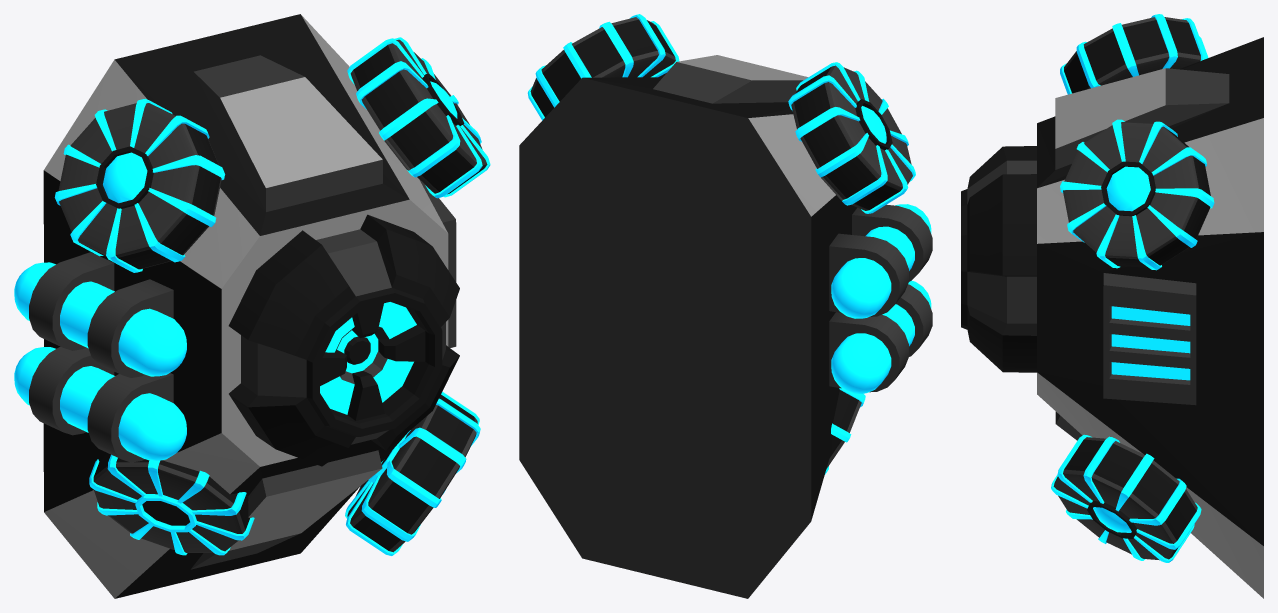
File: Shield.FBX
3 renders of one model, left to right at view 1: azimuth 30°, elevation 25°; view 2: azimuth 150°, elevation 25°; view 3: azimuth 270°, elevation 25°, orthographic. The views are drawn at different scales.
Parts seen in each view (by area): view 1: Cylinder015, Cylinder021, Cylinder016, Sphere003, Sphere004, Cylinder022, Cylinder023, Cylinder020; view 2: Cylinder015, Cylinder016, Sphere003, Sphere004, Cylinder022, Cylinder023; view 3: Cylinder015, Cylinder022, Cylinder021, Cylinder020, Cylinder016.
Part boxes in pixels (x1=…): Cylinder015: x1=43, y1=14, x2=456, y2=598; Cylinder021: x1=228, y1=214, x2=459, y2=466; Cylinder016: x1=54, y1=98, x2=225, y2=272; Sphere003: x1=14, y1=252, x2=186, y2=377; Sphere004: x1=14, y1=346, x2=186, y2=462; Cylinder022: x1=347, y1=37, x2=490, y2=198; Cylinder023: x1=89, y1=453, x2=254, y2=555; Cylinder020: x1=345, y1=392, x2=480, y2=555; Cylinder015: x1=519, y1=55, x2=857, y2=598; Cylinder016: x1=788, y1=62, x2=915, y2=213; Sphere003: x1=829, y1=204, x2=932, y2=318; Sphere004: x1=829, y1=280, x2=932, y2=393; Cylinder022: x1=527, y1=14, x2=679, y2=120; Cylinder023: x1=825, y1=388, x2=865, y2=474; Cylinder015: x1=1037, y1=37, x2=1263, y2=598; Cylinder022: x1=1060, y1=119, x2=1214, y2=270; Cylinder021: x1=961, y1=146, x2=1036, y2=372; Cylinder020: x1=1051, y1=434, x2=1201, y2=562; Cylinder016: x1=1060, y1=14, x2=1208, y2=94.
Size of the model in its own units: 73.21 by 90.43 by 50.59.
